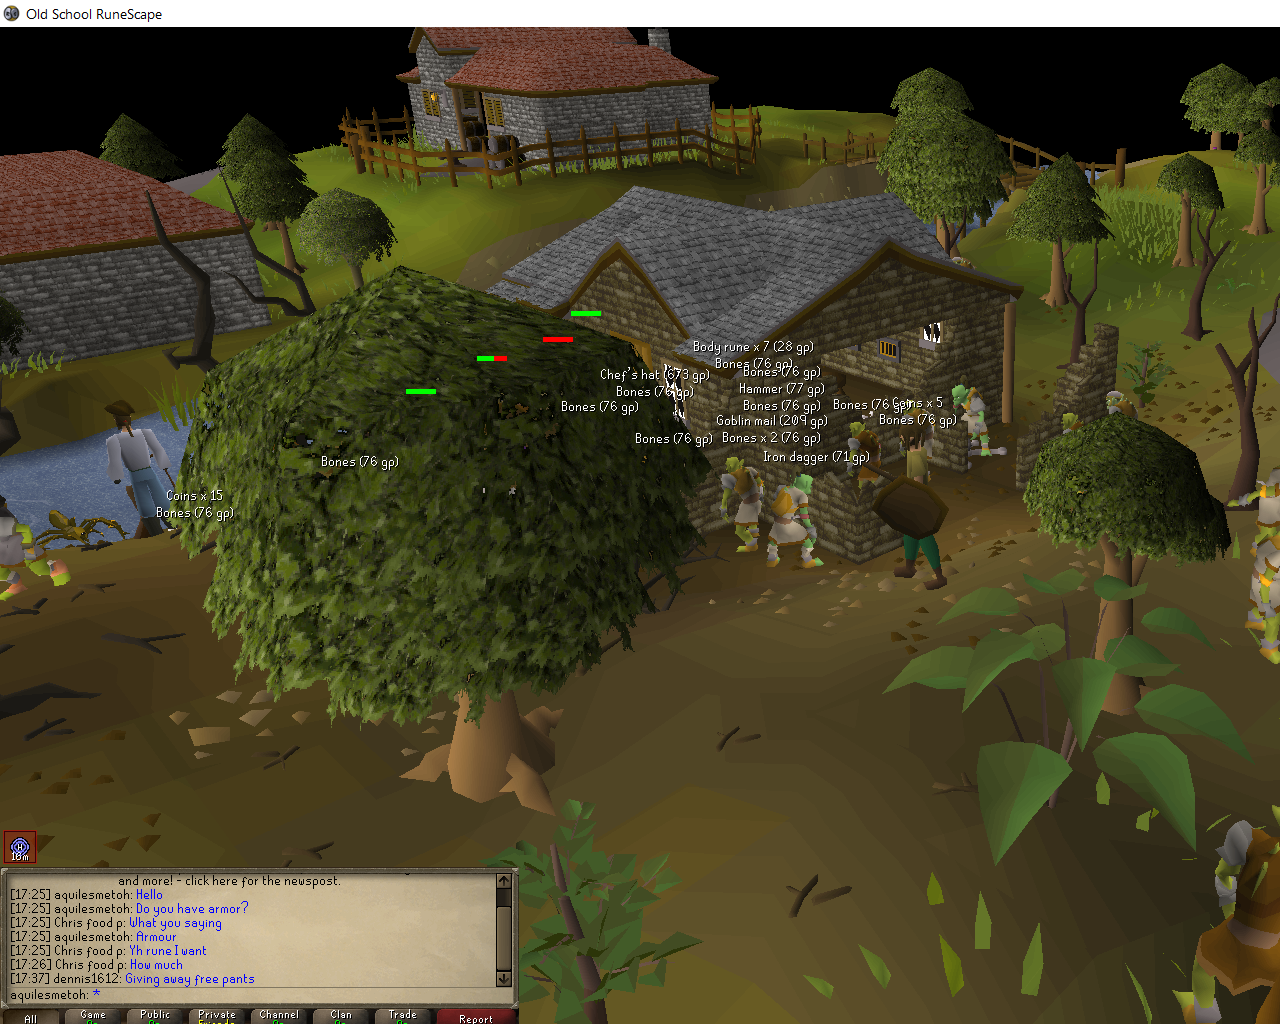Goblin: (1163, 800, 1280, 1024), (1, 501, 75, 609), (767, 470, 825, 571), (1225, 466, 1280, 558), (1242, 536, 1280, 671), (716, 457, 766, 556), (950, 383, 1001, 461), (844, 421, 886, 499), (1104, 389, 1142, 432), (1055, 410, 1090, 446)
